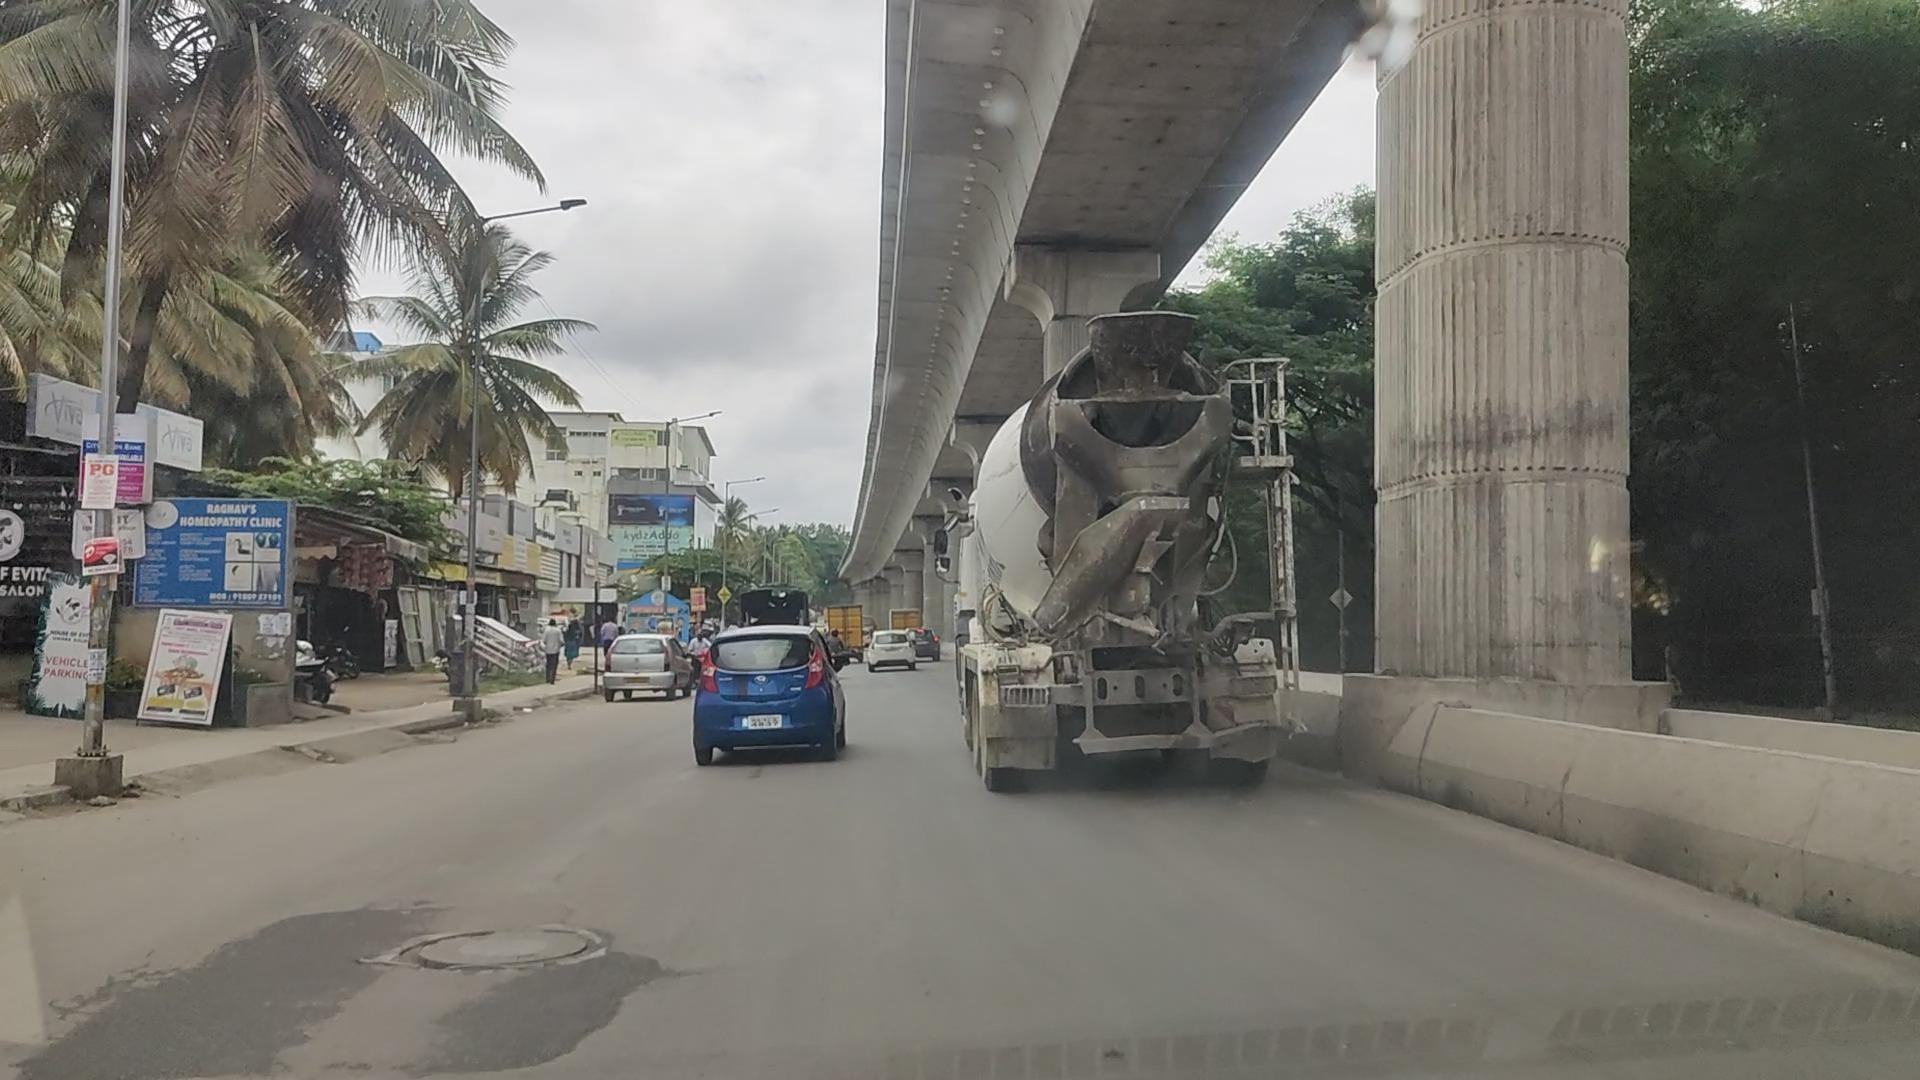HMV: (963, 318, 1273, 777)
LMV: (696, 634, 848, 754)
RoadDamages: (372, 914, 622, 980), (496, 981, 637, 1079)
